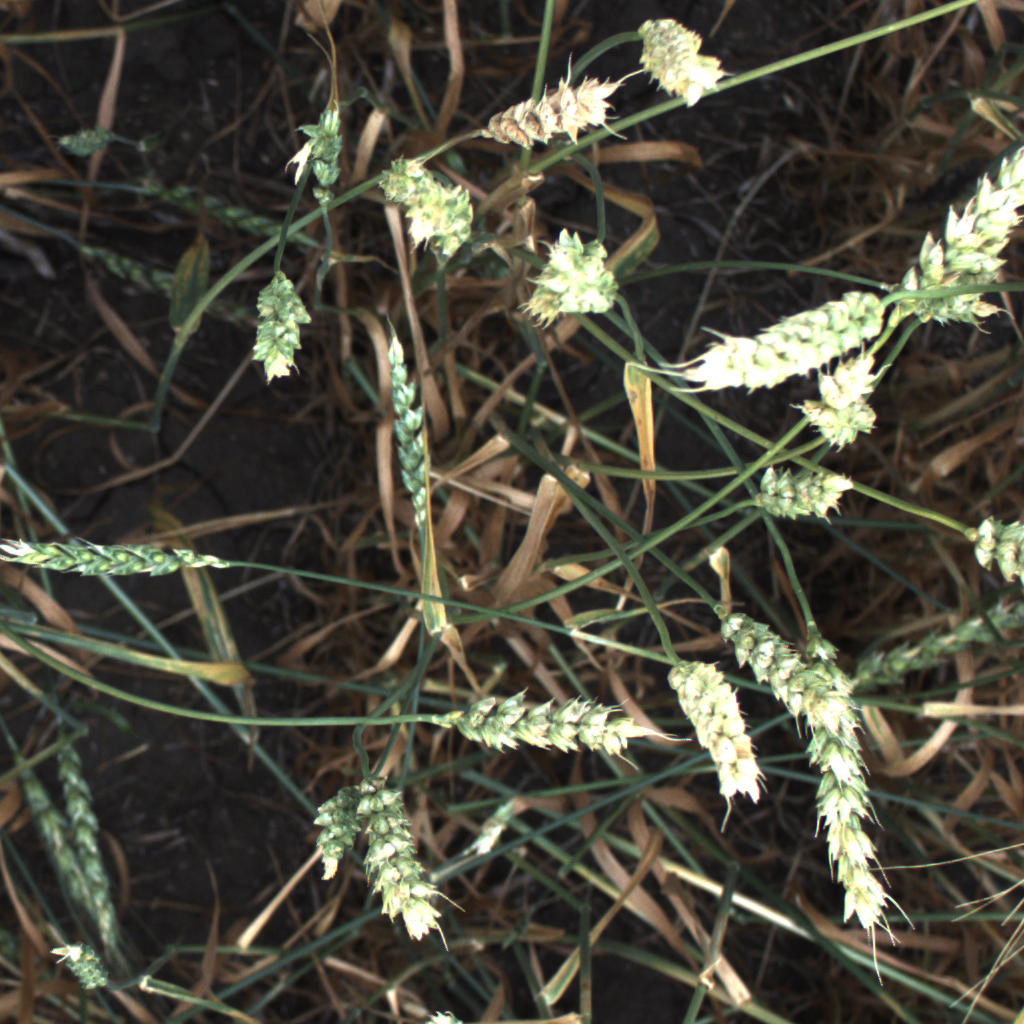wheat_head: (786, 611, 913, 939), (681, 283, 906, 407), (705, 596, 870, 756), (887, 136, 1024, 318), (418, 681, 663, 760), (347, 764, 451, 950), (371, 312, 444, 557), (0, 521, 245, 591), (663, 653, 770, 813), (471, 67, 628, 163), (377, 151, 483, 267), (515, 228, 622, 339), (734, 451, 871, 530), (235, 262, 315, 396), (635, 5, 731, 114), (804, 334, 890, 455), (272, 100, 350, 225), (306, 770, 383, 884), (41, 932, 126, 1003), (963, 504, 1024, 592)
